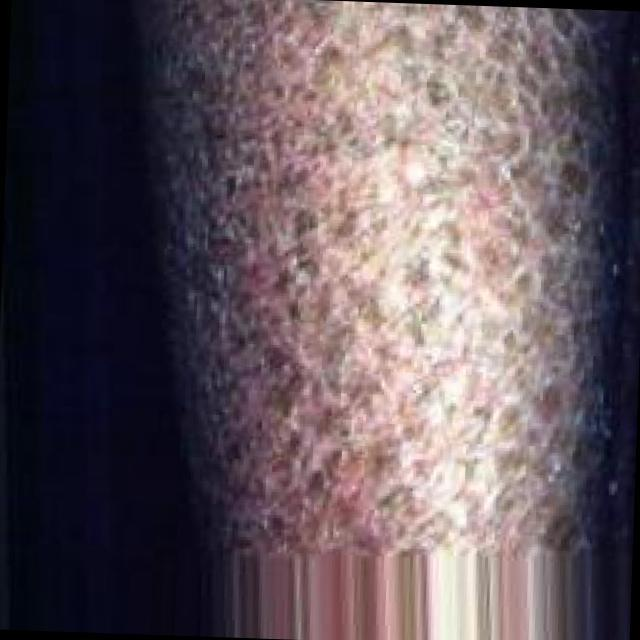Eczema: (167, 0, 609, 549)
